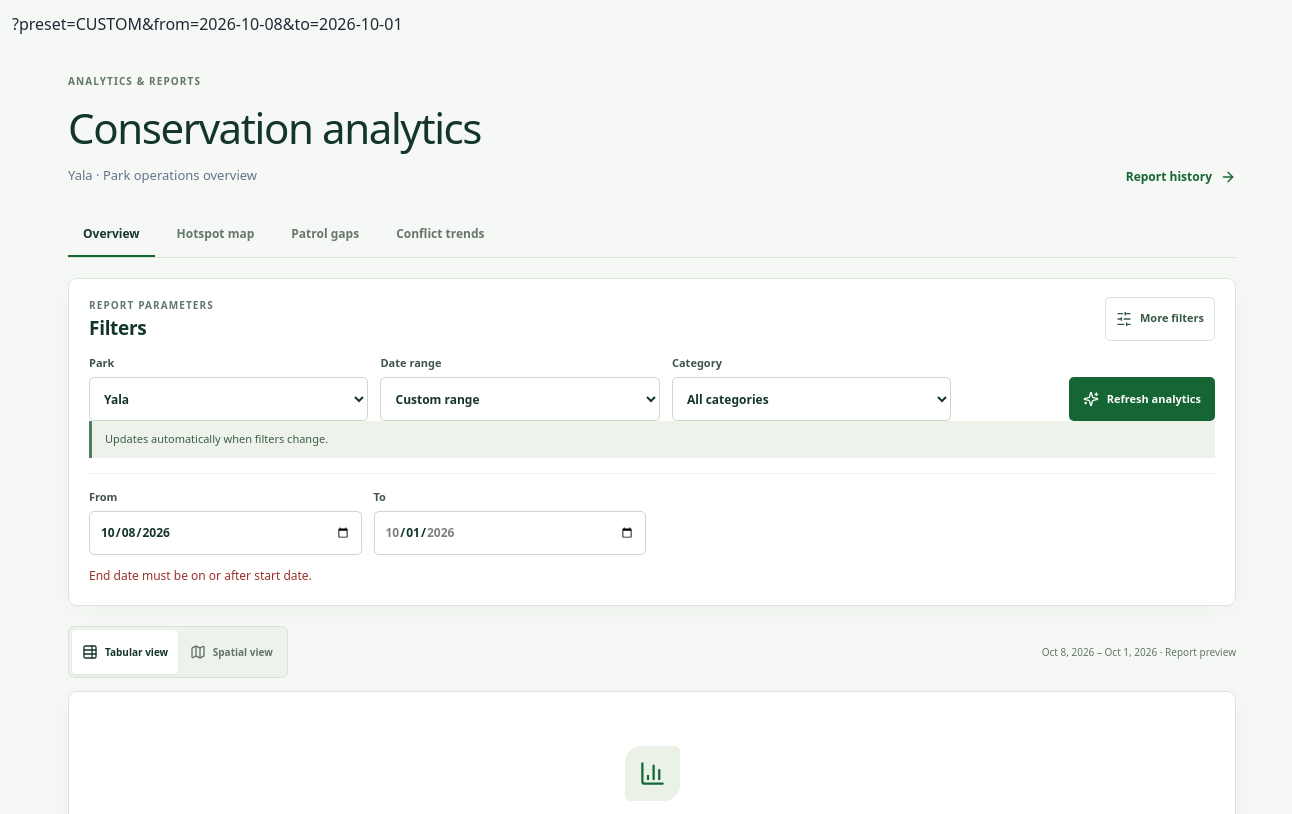
Scenario: automatic M4 analytics › keeps invalid typed dates without a request and automatically updates when corrected
Expected: the message shows "End date must be on or after start date", [89,567,312,584]
Type "2026-10-09" into the date field named "To date" at (510, 533), box [374,511,646,555]
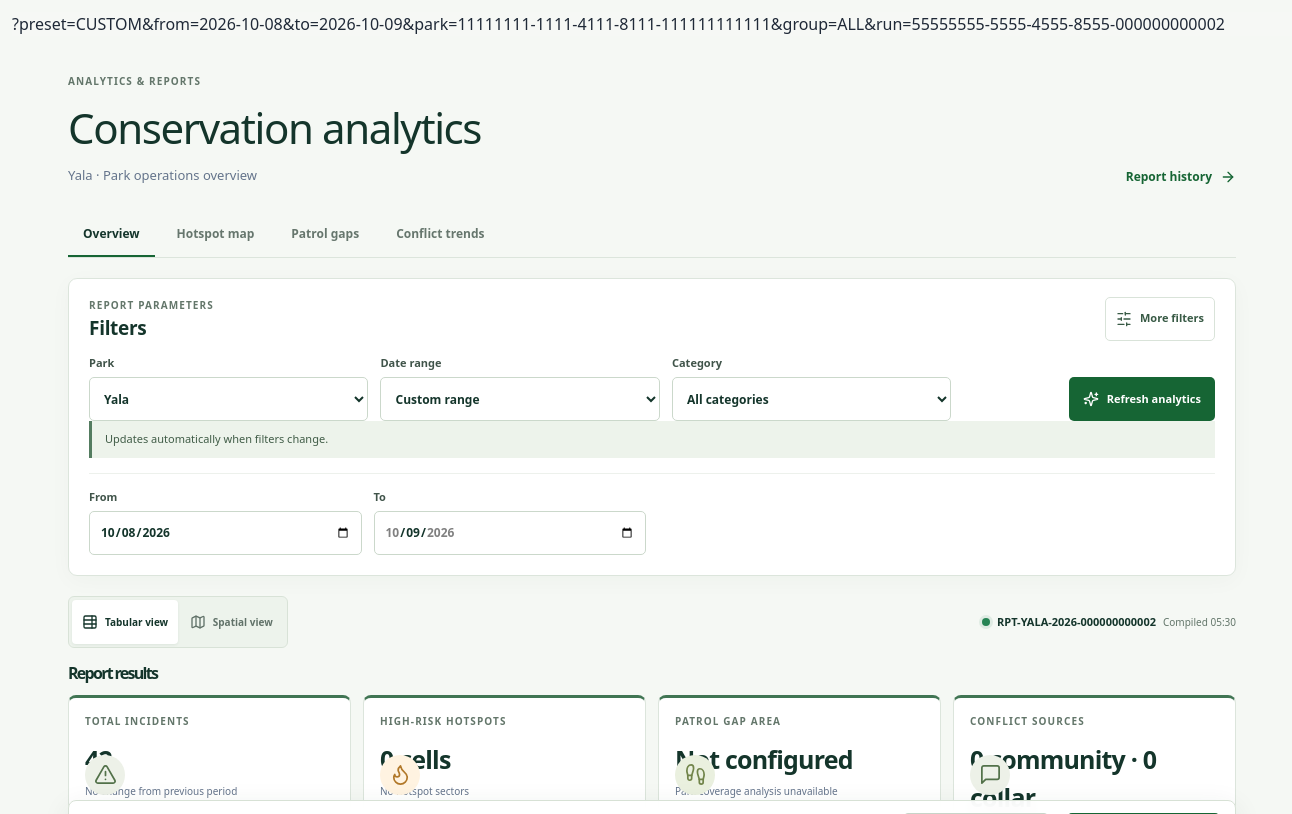
Now the heading "Report results" is shown, box [68,662,157,684]
